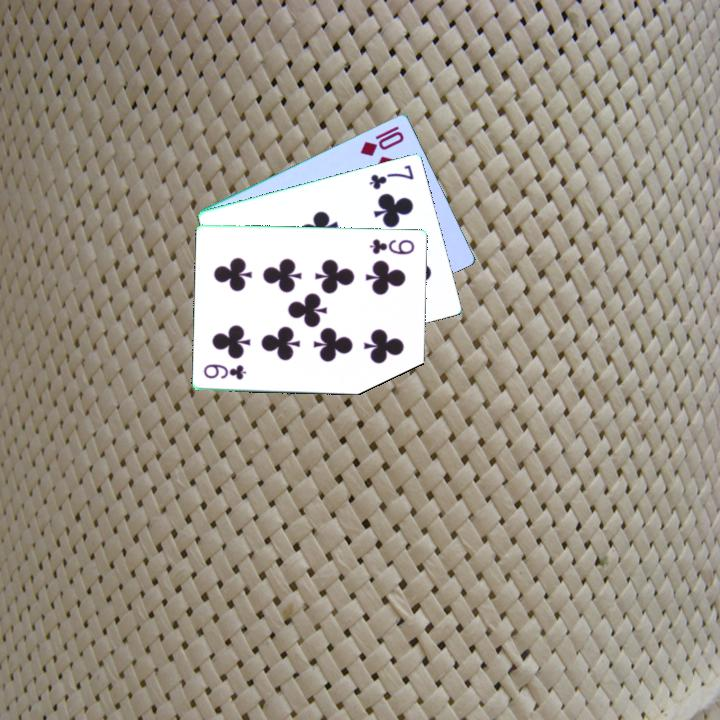10d: (356, 122, 407, 159)
7c: (366, 161, 417, 192)
9c: (366, 235, 417, 257), (201, 360, 249, 382)
